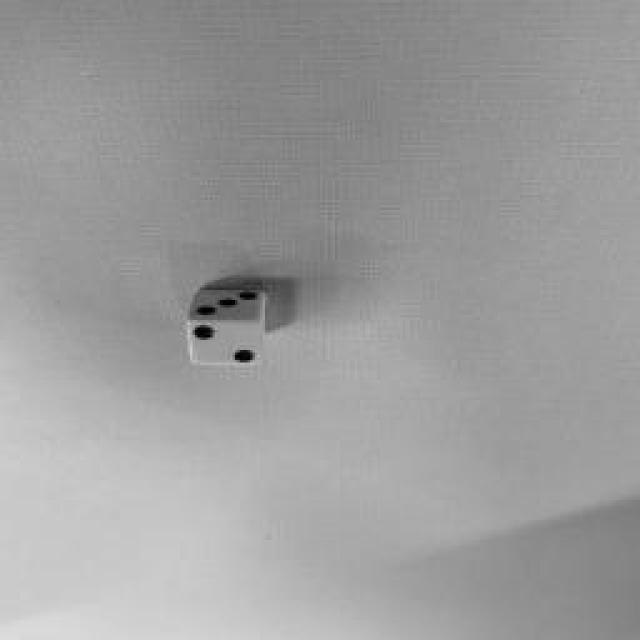dice_2: (188, 320, 262, 365)
